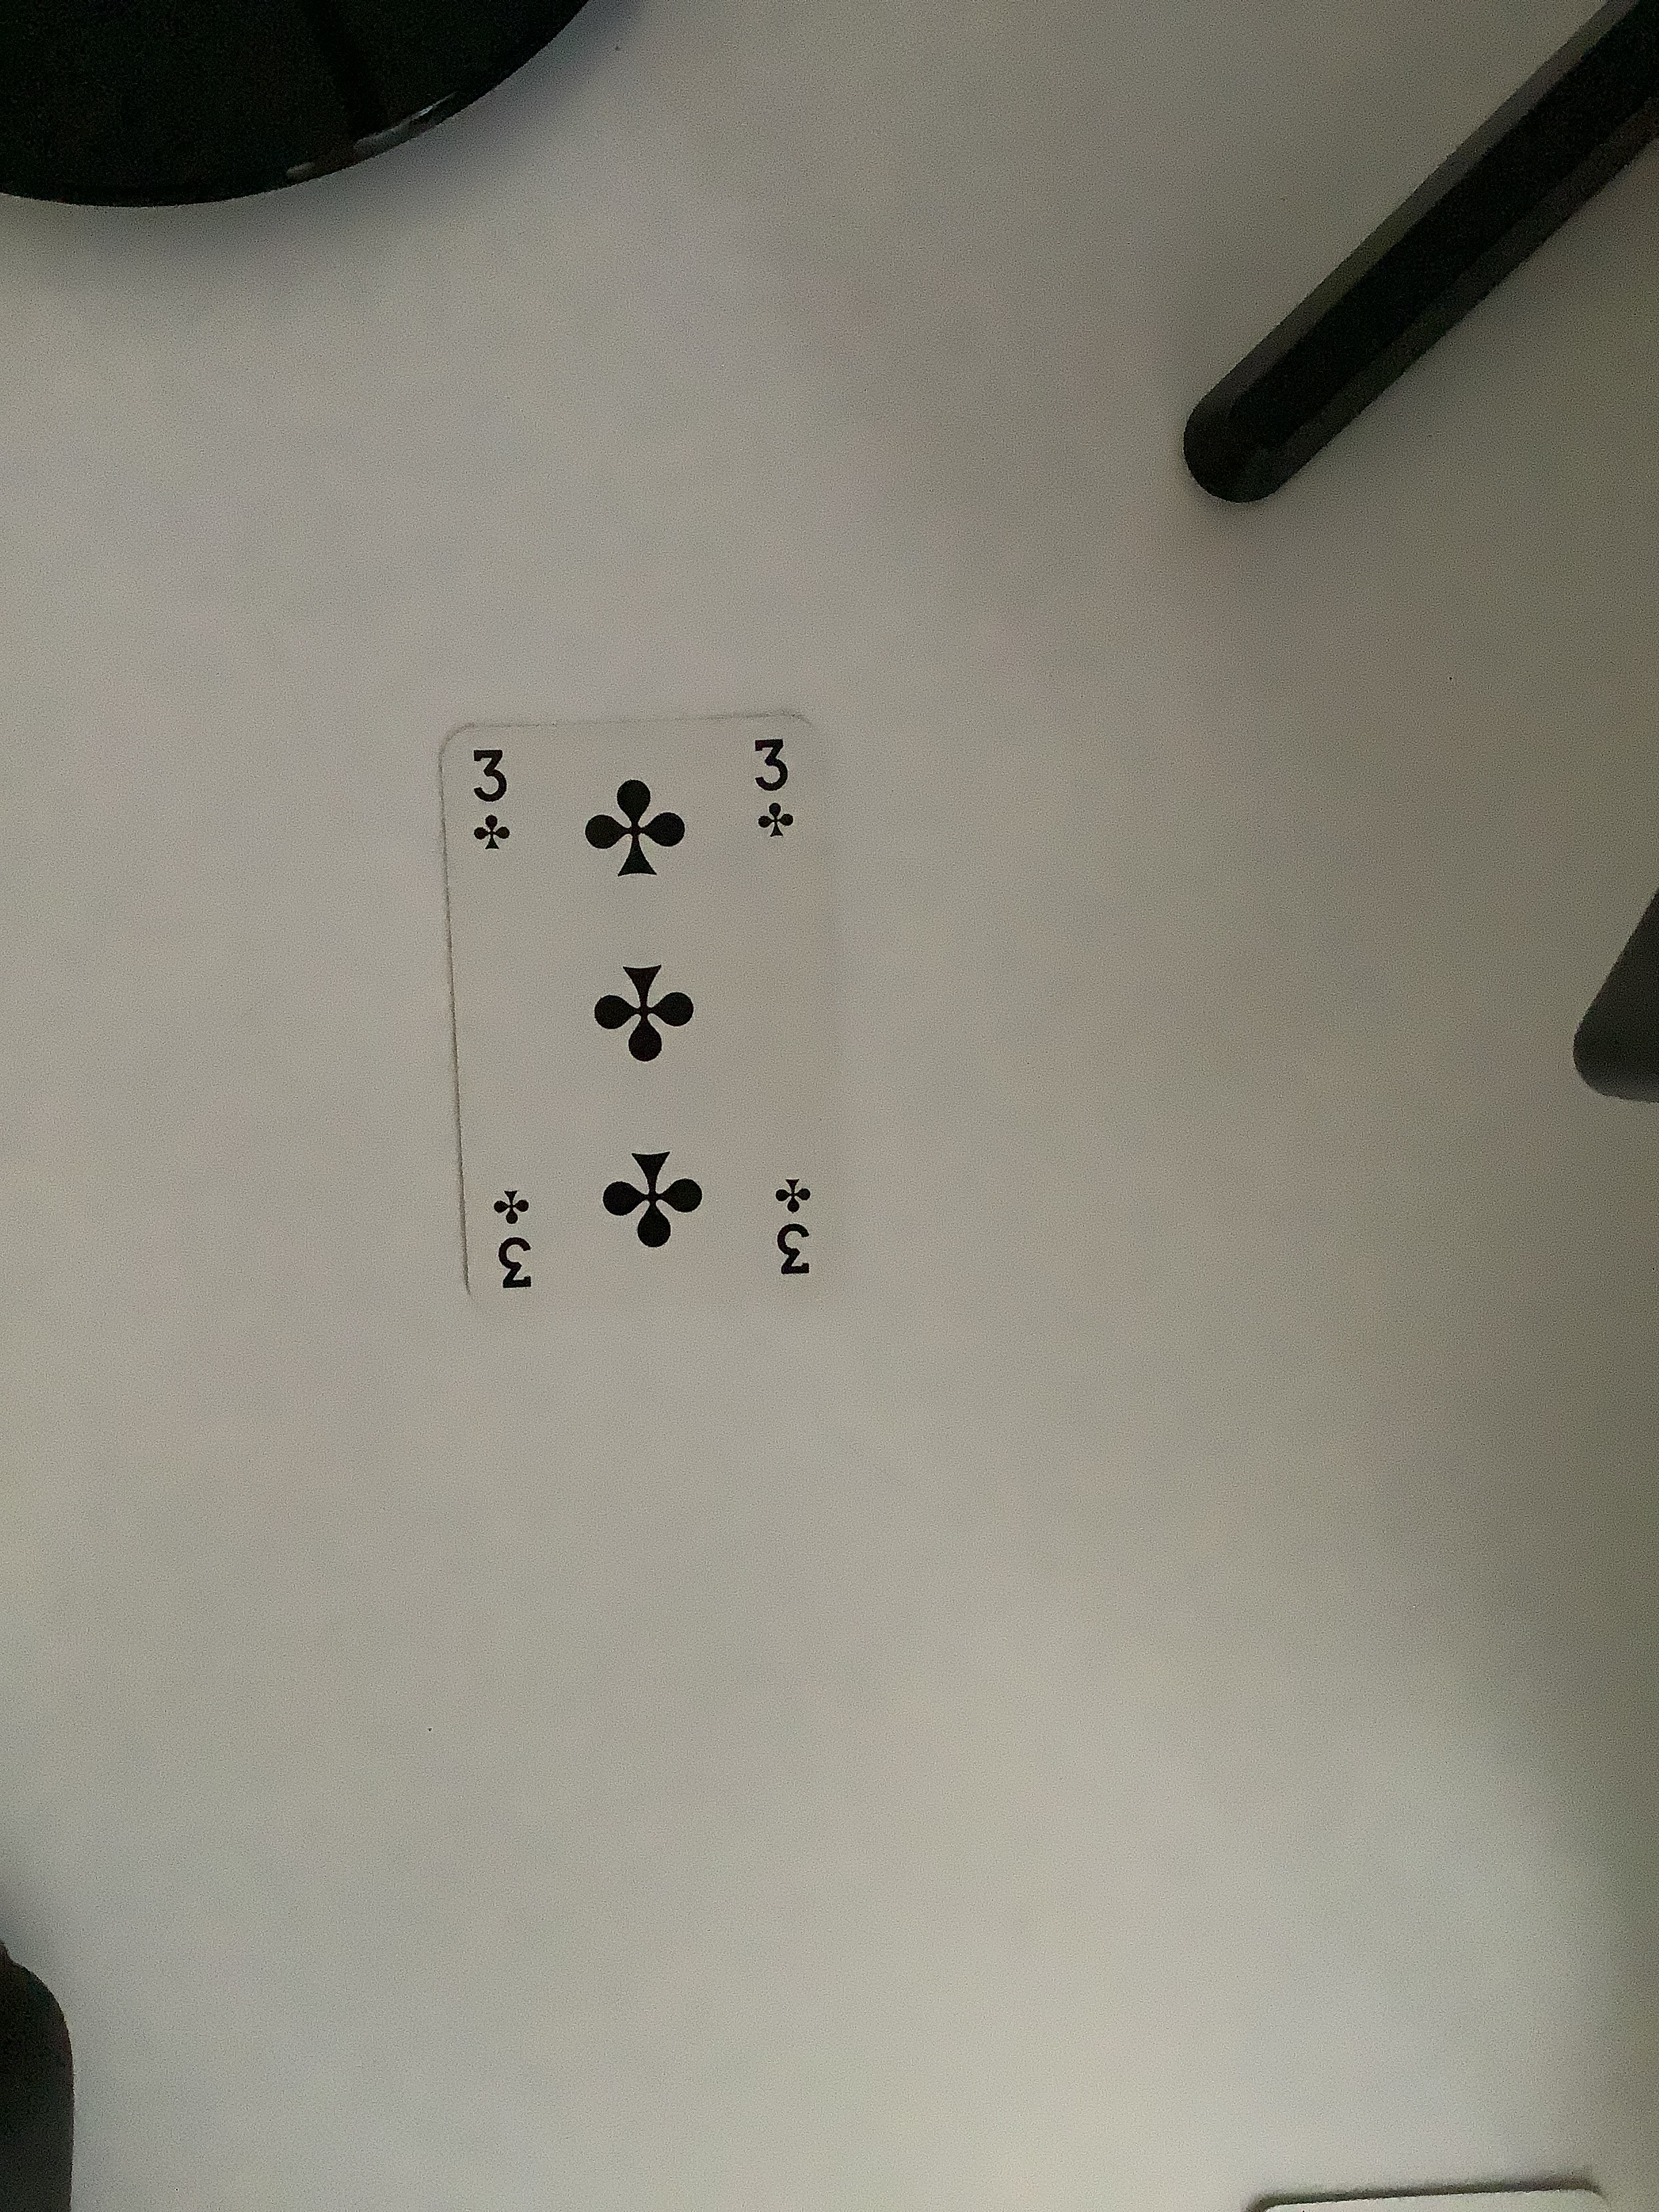♣ 3: (413, 714, 859, 1350)
